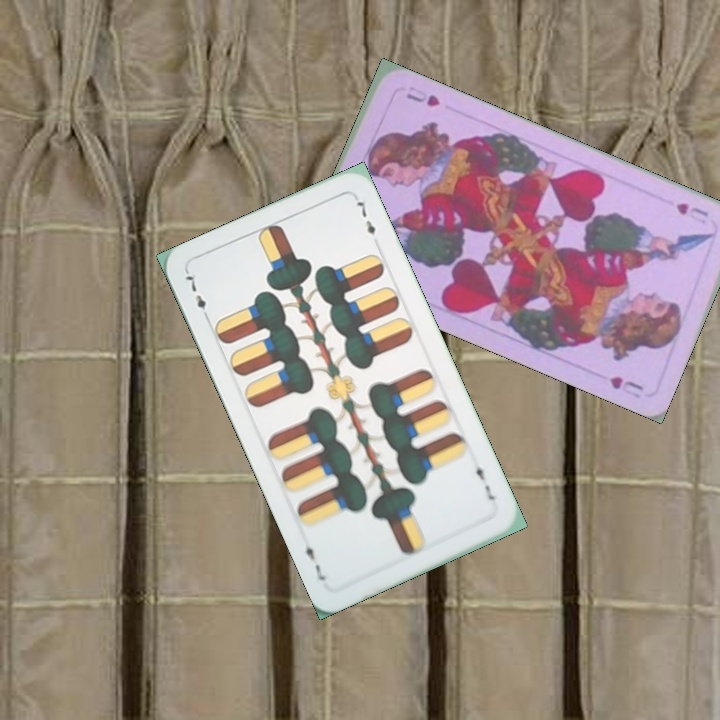E7: (181, 268, 213, 324), (471, 456, 498, 504)
HU: (672, 198, 711, 220)
